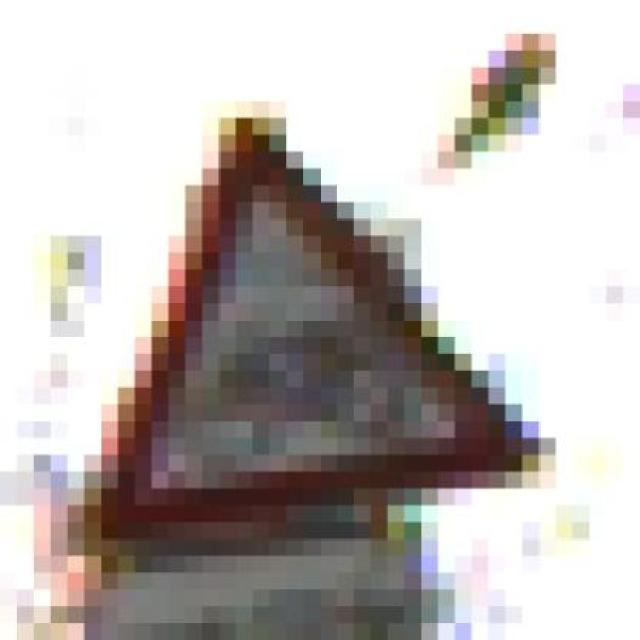CYCLE ROUTE AHEAD WARNING: (50, 101, 556, 539)
